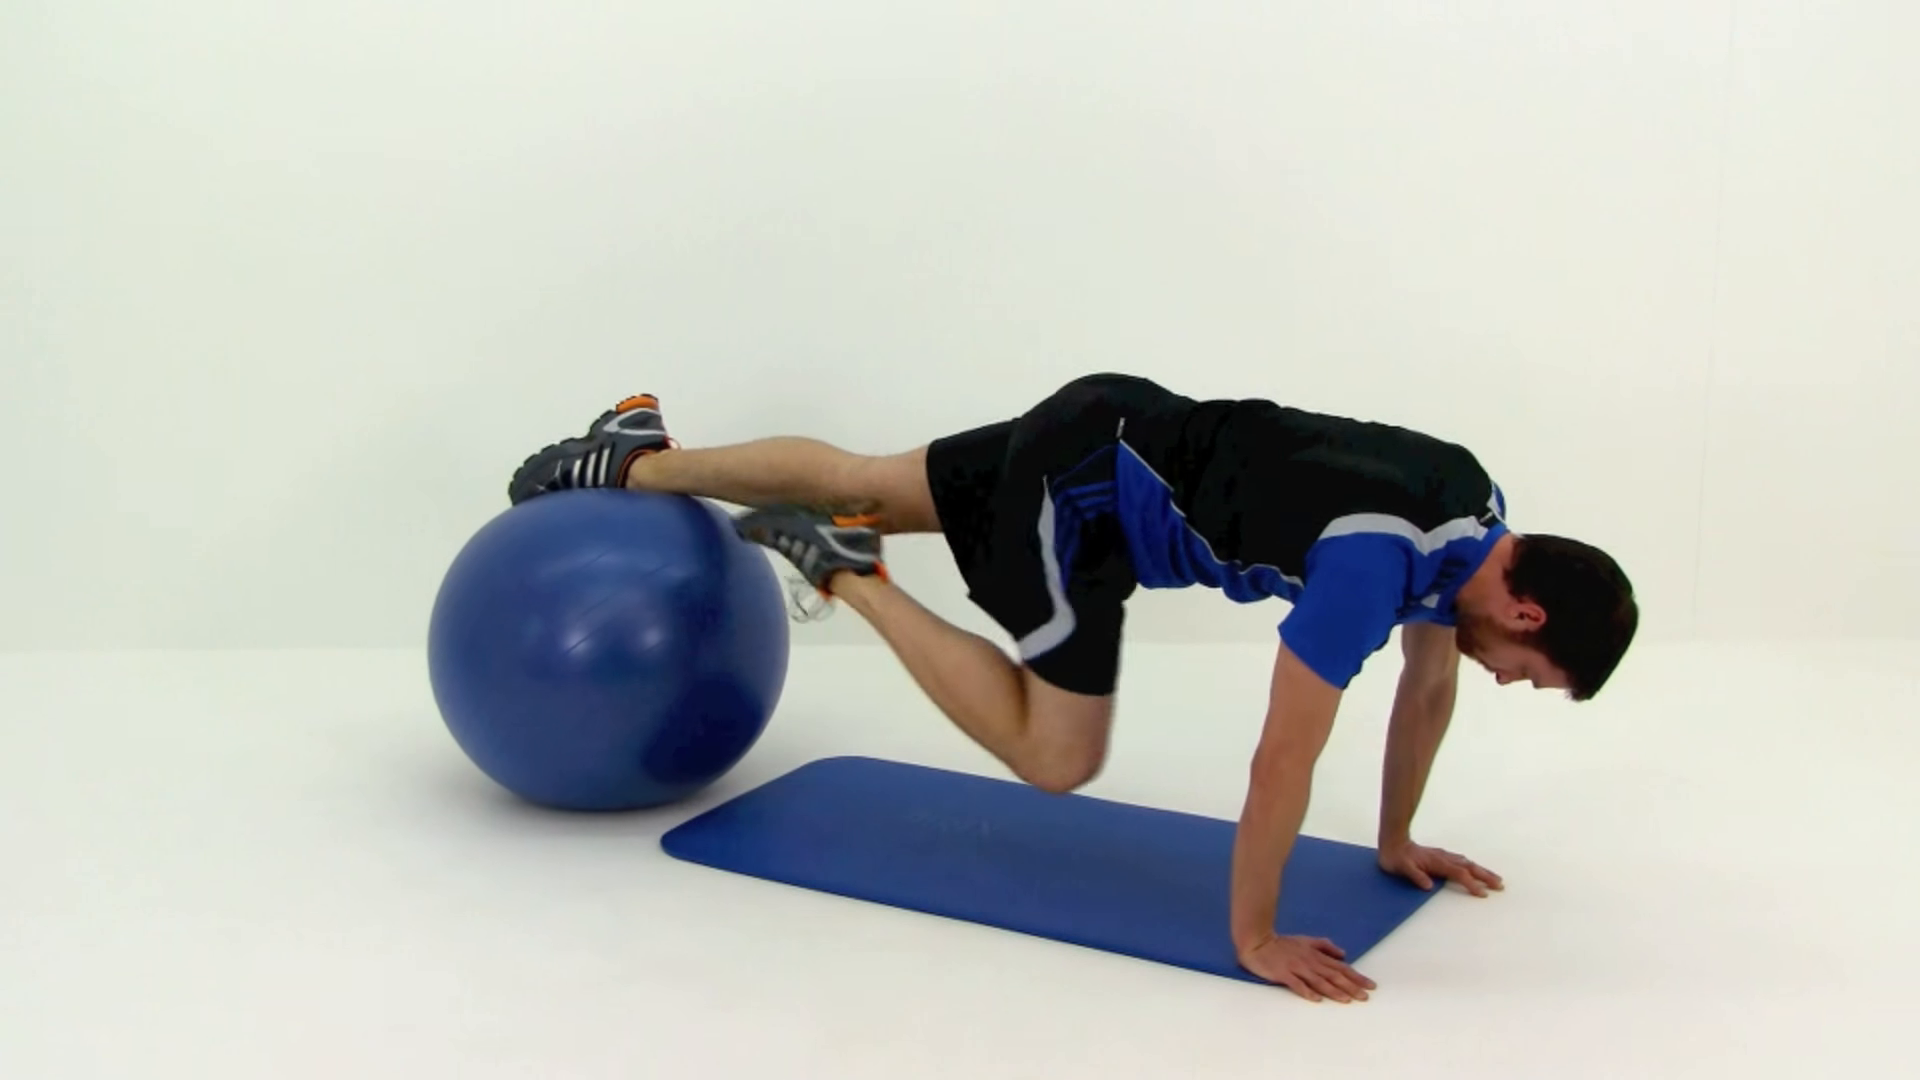yogaball: (406, 481, 811, 829)
